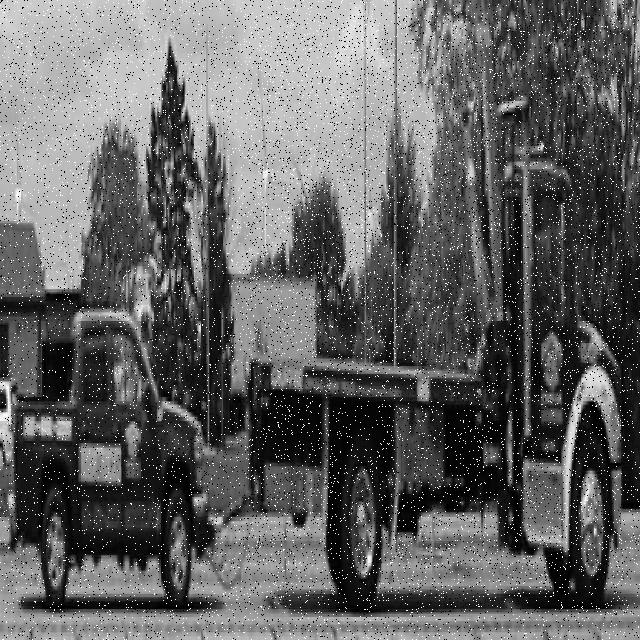Pickup: (11, 309, 215, 610)
Truck- 2-Axle: (246, 14, 623, 612)
